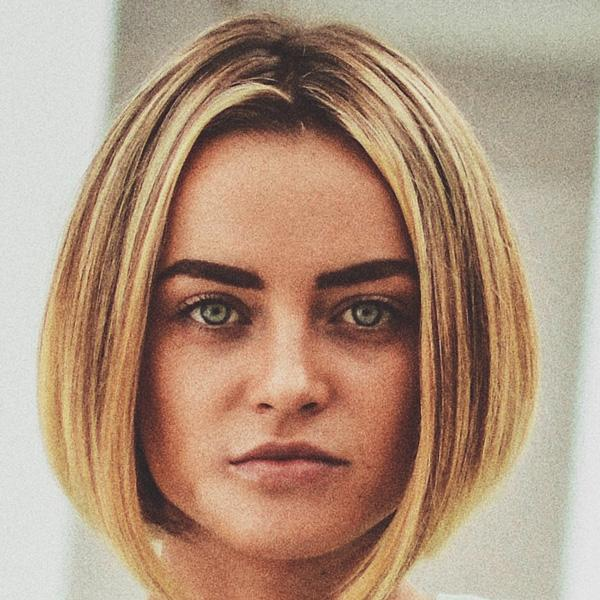Eyes: (319, 288, 414, 343), (169, 286, 260, 341)
